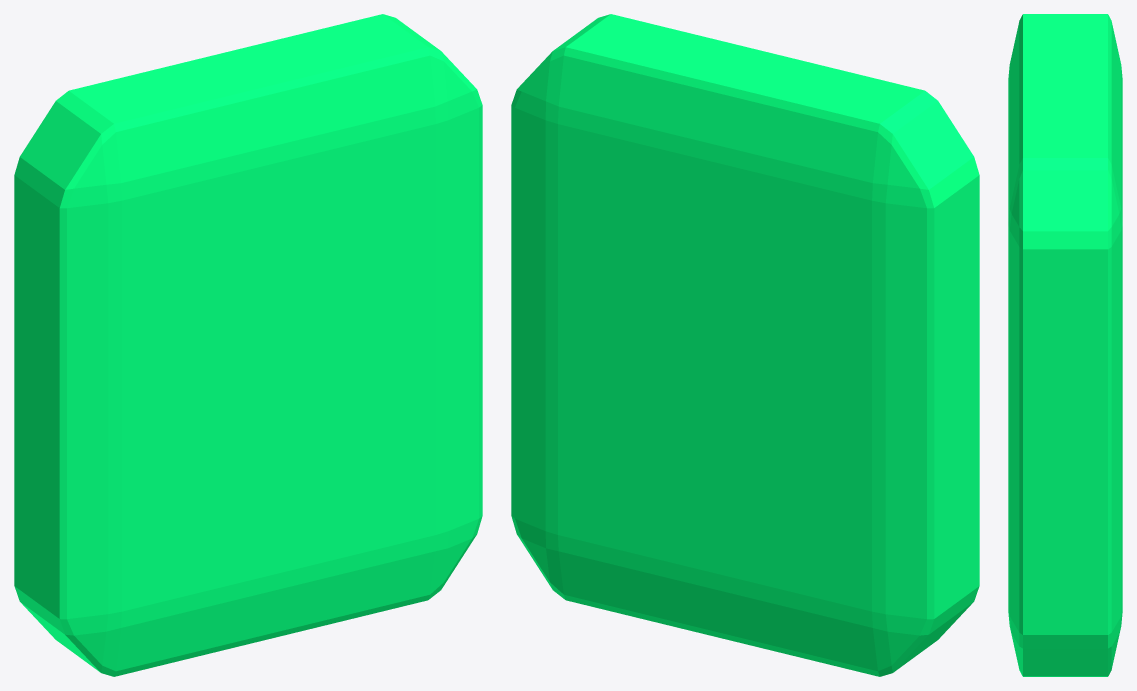
The model's file is amerald.glb.
3 renders of one model, left to right at view 1: azimuth 30°, elevation 25°; view 2: azimuth 150°, elevation 25°; view 3: azimuth 270°, elevation 25°, orthographic. The views are drawn at different scales.
Visible parts, largest first — view 1: Cube; view 2: Cube; view 3: Cube.
Boxes of the visible parts, x1,y1,x2,y2 form: Cube: [14, 14, 482, 676]; Cube: [511, 14, 979, 676]; Cube: [1008, 14, 1122, 676].
Size of the model in its own units: 0.08 by 0.1 by 0.02.
